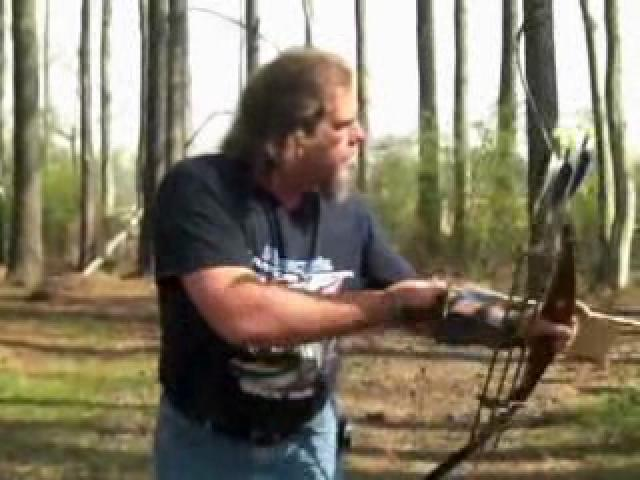I: (137, 29, 601, 447)
